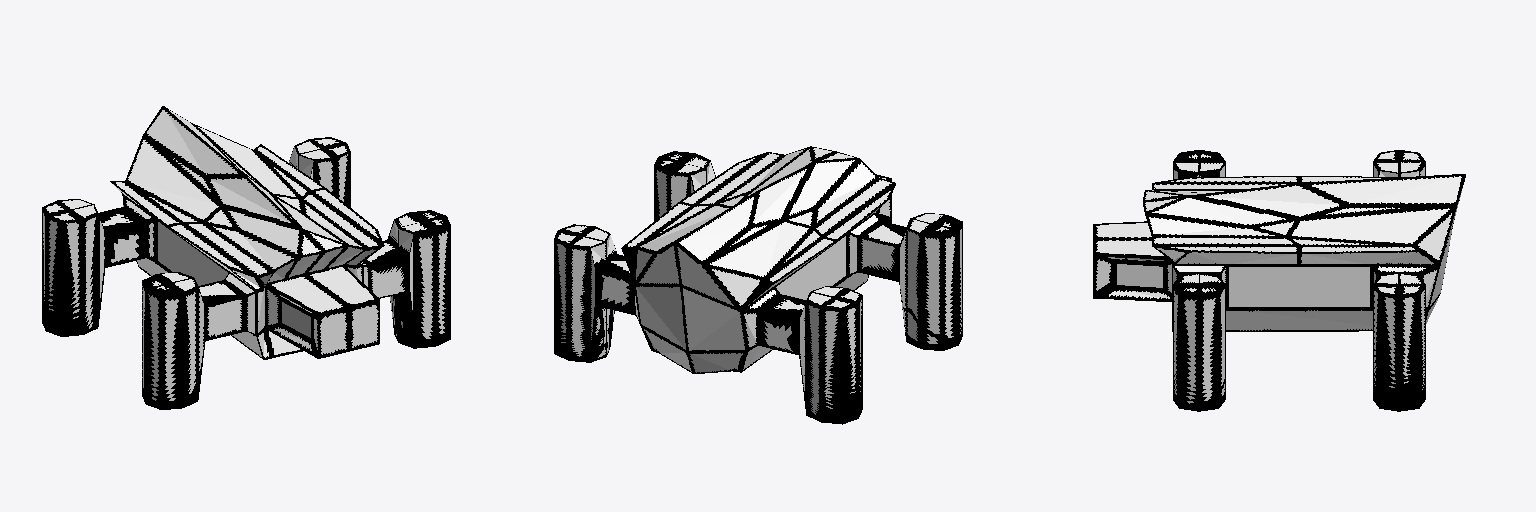
3 renders of one model, left to right at view 1: azimuth 30°, elevation 25°; view 2: azimuth 150°, elevation 25°; view 3: azimuth 270°, elevation 25°, orthographic.
Parts seen in each view (by area): view 1: Cube1; view 2: Cube1; view 3: Cube1.
Part boxes in pixels (x1,y1,x2,y2): Cube1: (42,106,450,409); Cube1: (554,146,962,424); Cube1: (1093,150,1465,411).
Bounding box in the file's own units: 14.19 × 7.42 × 15.23.
1 materials, 1 textured.